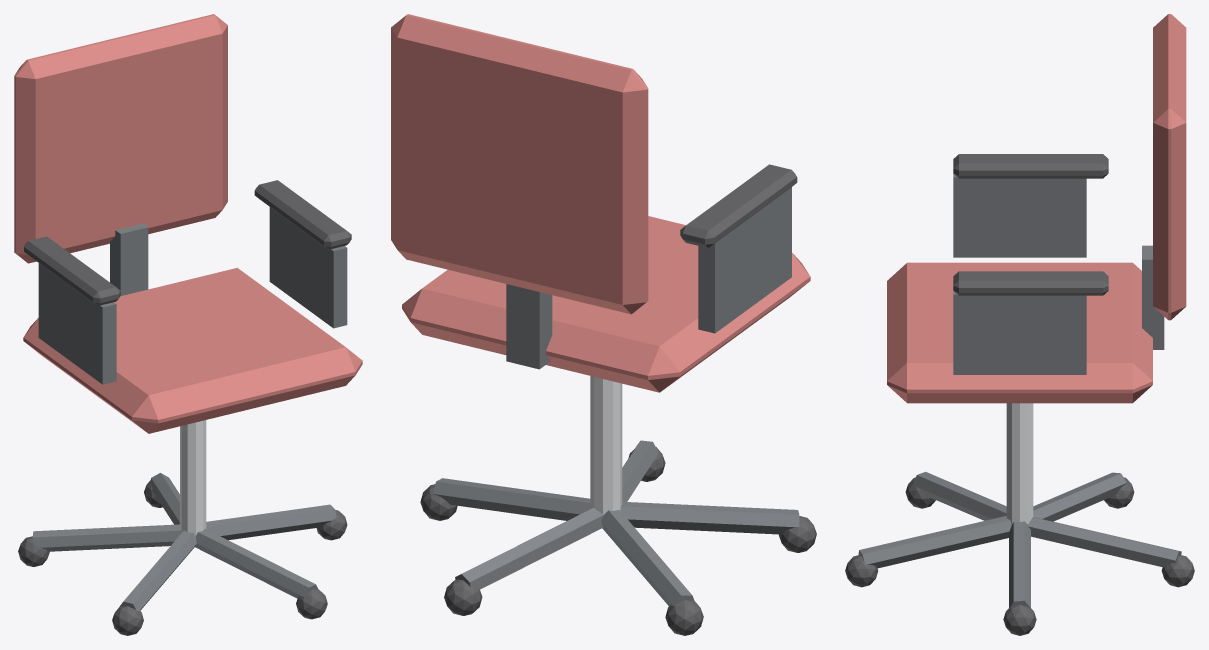
Rendered from office_chair.glb.
3 renders of one model, left to right at view 1: azimuth 30°, elevation 25°; view 2: azimuth 150°, elevation 25°; view 3: azimuth 270°, elevation 25°, orthographic. The views are drawn at different scales.
Visible parts, largest first — view 1: office_chair_vinyl_r, office_chair_steel_d, office_chair_dark, office_chair_chrome; view 2: office_chair_vinyl_r, office_chair_steel_d, office_chair_dark, office_chair_chrome; view 3: office_chair_steel_d, office_chair_vinyl_r, office_chair_dark, office_chair_chrome.
Boxes of the visible parts, <box> form: office_chair_vinyl_r: <box>14,14,362,433</box>; office_chair_steel_d: <box>32,207,347,611</box>; office_chair_dark: <box>18,180,351,635</box>; office_chair_chrome: <box>180,420,206,535</box>; office_chair_vinyl_r: <box>391,14,810,392</box>; office_chair_steel_d: <box>433,187,799,605</box>; office_chair_dark: <box>420,164,816,635</box>; office_chair_chrome: <box>590,376,622,514</box>; office_chair_steel_d: <box>858,174,1181,608</box>; office_chair_vinyl_r: <box>887,14,1186,403</box>; office_chair_dark: <box>845,154,1194,635</box>; office_chair_chrome: <box>1006,403,1033,524</box>.
Bounding box in the file's own units: 0.61 × 1 × 0.6306.
